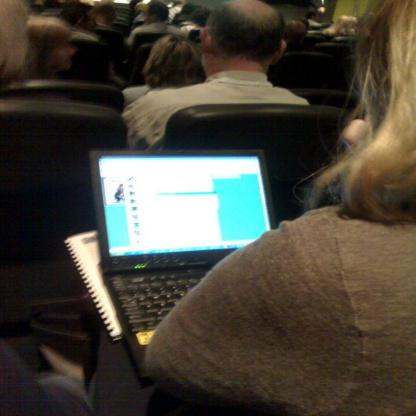board: (90, 148, 275, 360)
